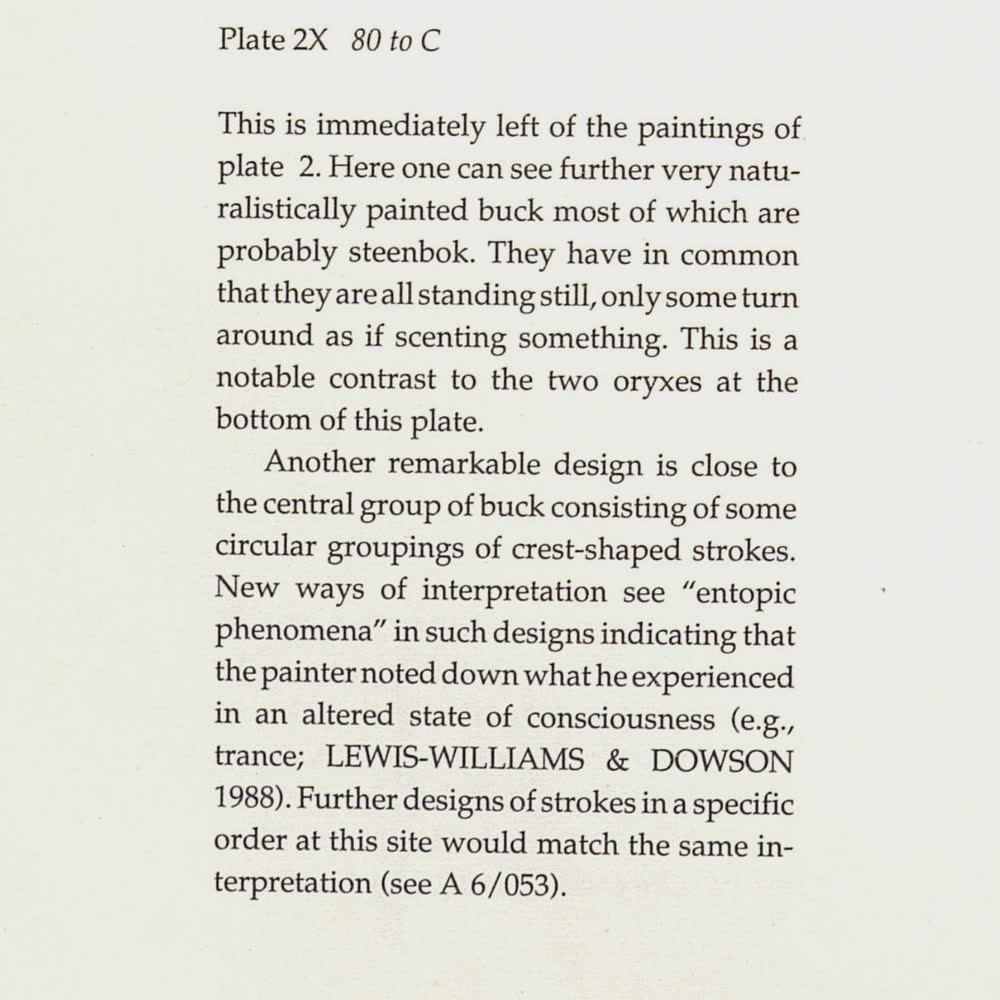text: (206, 16, 806, 916)
